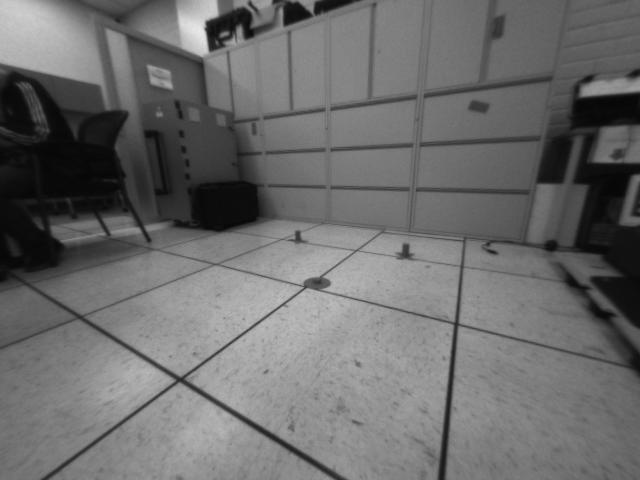X: (394, 243, 418, 261), (286, 229, 309, 245)
